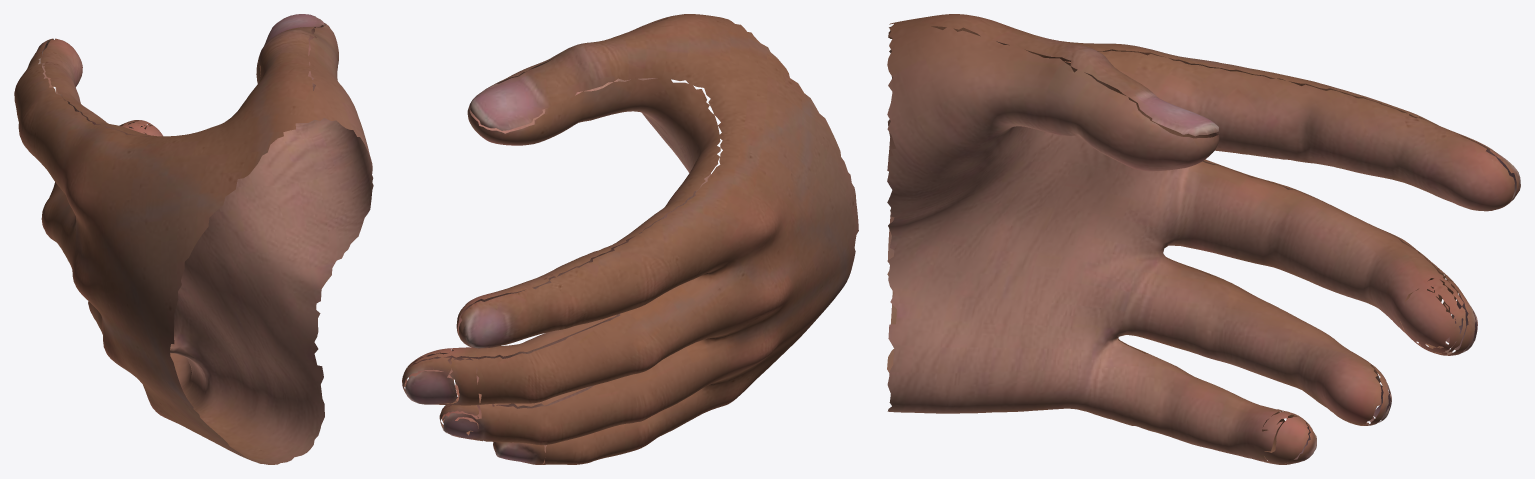
The model's file is hand_pov.glb.
3 renders of one model, left to right at view 1: azimuth 30°, elevation 25°; view 2: azimuth 150°, elevation 25°; view 3: azimuth 270°, elevation 25°, orthographic. The views are drawn at different scales.
Parts seen in each view (by area): view 1: Hands_Low:Group52896; view 2: Hands_Low:Group52896; view 3: Hands_Low:Group52896.
Boxes of the visible parts, bbox=[...] form: Hands_Low:Group52896: bbox=[14, 14, 373, 464]; Hands_Low:Group52896: bbox=[402, 14, 858, 464]; Hands_Low:Group52896: bbox=[887, 14, 1520, 464].
Bounding box in the file's own units: 0.1456 × 0.1822 × 0.2398.
Materials: 1 (1 with a texture image).
